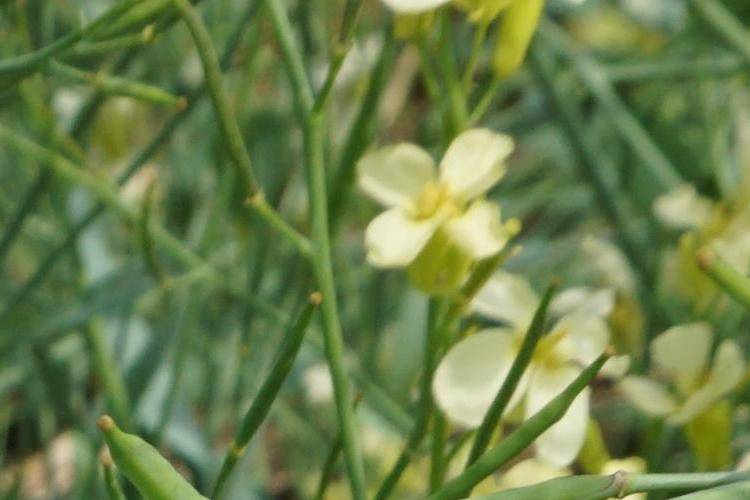pod: (222, 289, 329, 455), (521, 339, 618, 459), (493, 260, 570, 406), (101, 395, 187, 493)
white: (429, 285, 625, 451), (345, 146, 528, 280), (619, 327, 735, 431)
